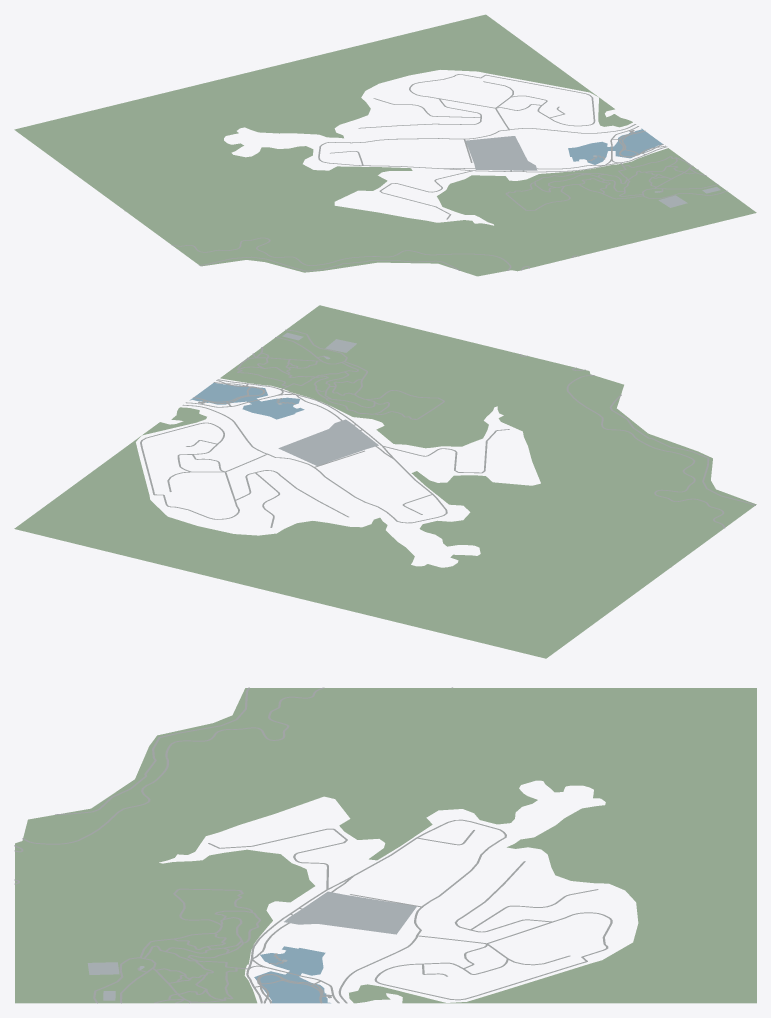
Rendered from 4_5-known-coarse.glb.
3 views of the same model, one above another, from view 1: azimuth 30°, elevation 25°; view 2: azimuth 150°, elevation 25°; view 3: azimuth 270°, elevation 25° (orthographic). The views are drawn at different scales.
Size of the model in its own units: 1003 by 0.15 by 996.
